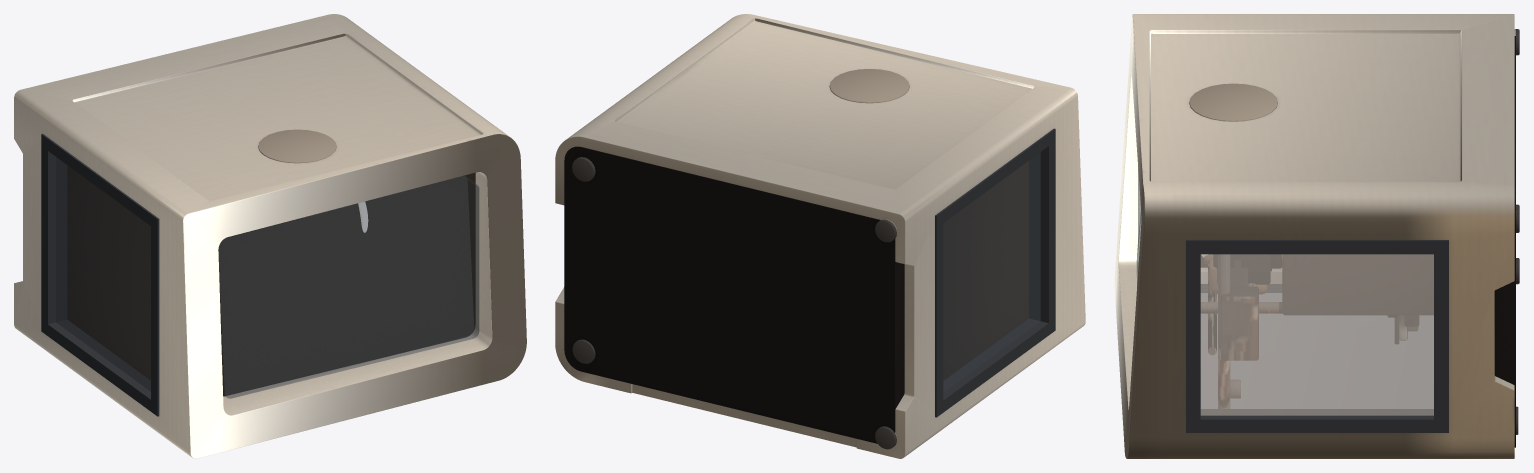
Rendered from deltrol_p2s_explorer_v22.glb.
3 views of the same model, side by side, from view 1: azimuth 30°, elevation 25°; view 2: azimuth 150°, elevation 25°; view 3: azimuth 270°, elevation 25° (orthographic). The views are drawn at different scales.
Visible parts, largest first — view 1: unibody_shell, top_roof_glass, interior_ceiling_liner, left_glass_window, interior_left_back_baffle, left_window_gasket, rear_exhaust_shroud; view 2: unibody_shell, chassis_recessed_plinth, left_glass_window, interior_left_back_baffle, left_window_gasket, rear_exhaust_shroud; view 3: unibody_shell, right_glass_sheen, right_glass_window, right_window_gasket, interior_rear_electronics_box, x_gantry_crossbeam, chassis_recessed_plinth, rear_exhaust_shroud, x_guide_front, toolhead_chassis, cad_upper_rail_front.
Part boxes in pixels (box(x1,y1,x2,y2)): unibody_shell: box(14, 14, 526, 458); top_roof_glass: box(218, 176, 479, 398); interior_ceiling_liner: box(218, 172, 475, 396); left_glass_window: box(56, 157, 150, 391); interior_left_back_baffle: box(67, 165, 150, 380); left_window_gasket: box(41, 133, 159, 416); rear_exhaust_shroud: box(258, 129, 336, 163); unibody_shell: box(555, 14, 1085, 458); chassis_recessed_plinth: box(564, 146, 904, 443); left_glass_window: box(943, 152, 1040, 391); interior_left_back_baffle: box(943, 161, 1028, 380); left_window_gasket: box(935, 128, 1055, 417); rear_exhaust_shroud: box(829, 69, 909, 103); unibody_shell: box(1114, 14, 1514, 458); right_glass_sheen: box(1201, 254, 1433, 415); right_glass_window: box(1201, 254, 1433, 414); right_window_gasket: box(1186, 240, 1448, 432); interior_rear_electronics_box: box(1201, 254, 1433, 314); x_gantry_crossbeam: box(1221, 260, 1258, 360); chassis_recessed_plinth: box(1494, 36, 1515, 447); rear_exhaust_shroud: box(1189, 83, 1277, 121); x_guide_front: box(1201, 254, 1397, 408); toolhead_chassis: box(1213, 254, 1270, 284); cad_upper_rail_front: box(1208, 264, 1216, 354).
Bounding box in the file's own units: 0.426 × 0.2955 × 0.3818.
Materials: 18 (14 with a texture image).
